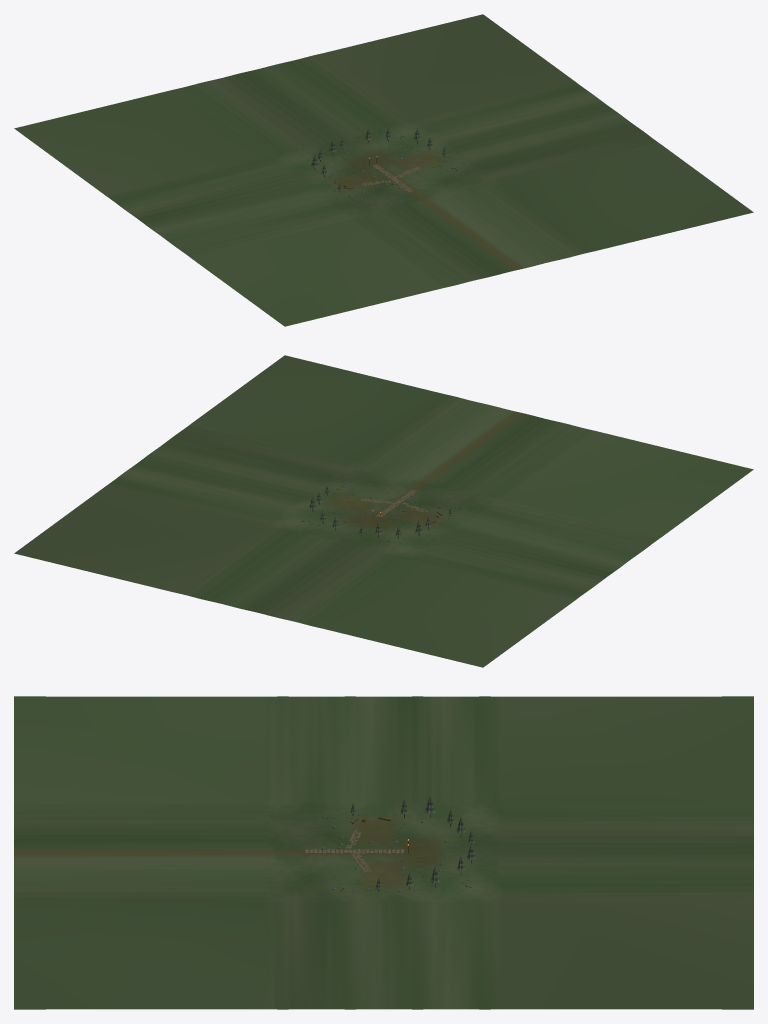
Rendered from environment.glb.
3 renders of one model, top to bottom at view 1: azimuth 30°, elevation 25°; view 2: azimuth 150°, elevation 25°; view 3: azimuth 270°, elevation 25°, orthographic. The views are drawn at different scales.
Visible parts, largest first — view 1: Family_environment; view 2: Family_environment; view 3: Family_environment.
Part boxes in pixels (<box>): Family_environment: <box>14,14,753,326</box>; Family_environment: <box>14,355,753,667</box>; Family_environment: <box>14,696,753,1009</box>.
Size of the model in its own units: 144 by 5.08 by 144.
2 materials, 2 textured.
